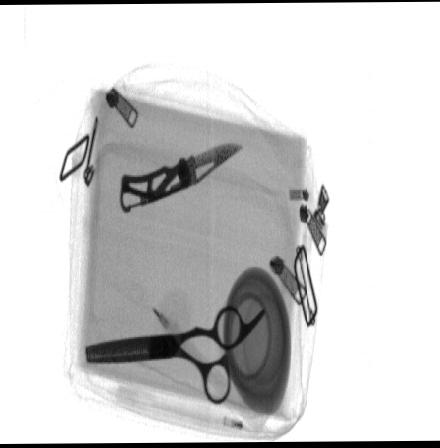Knife: (119, 143, 247, 212)
Scissors: (86, 304, 266, 404)
